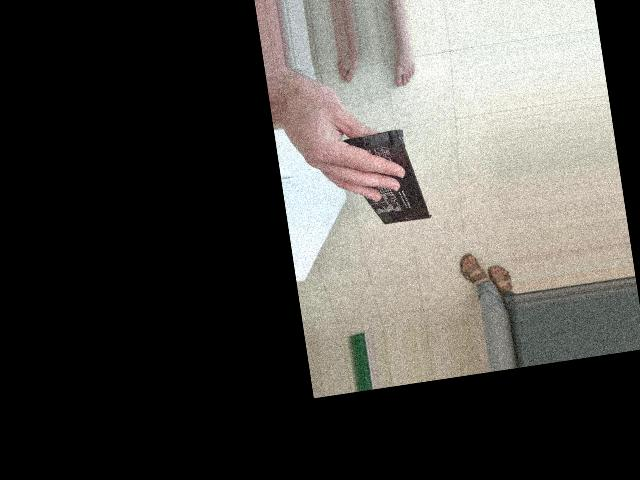chocolate: (392, 154, 510, 255)
